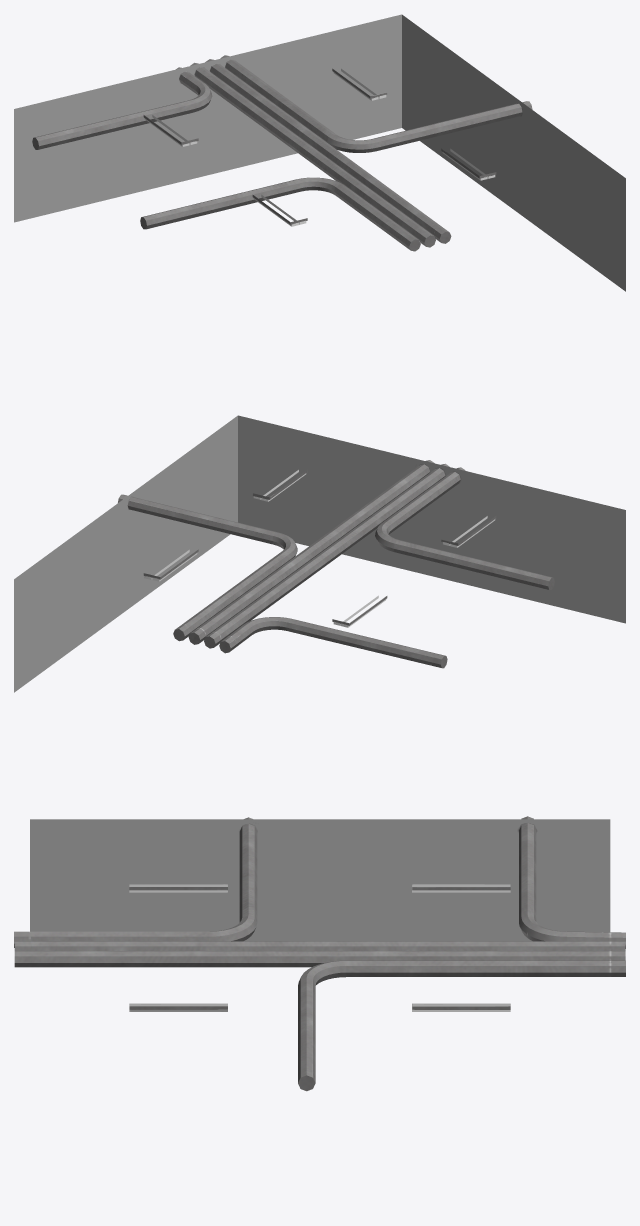
3 renders of one model, top to bottom at view 1: azimuth 30°, elevation 25°; view 2: azimuth 150°, elevation 25°; view 3: azimuth 270°, elevation 25°, orthographic. The views are drawn at different scales.
Visible parts, largest first — view 1: wc_grp1; view 2: wc_grp1; view 3: wc_grp1.
Part boxes in pixels (left/top/right/bottom): wc_grp1: left=14, top=14, right=625, bottom=291; wc_grp1: left=14, top=415, right=625, bottom=692; wc_grp1: left=14, top=816, right=625, bottom=1091.
Size of the model in its own units: 160 by 42.66 by 160.
Materials: 1 (1 with a texture image).
